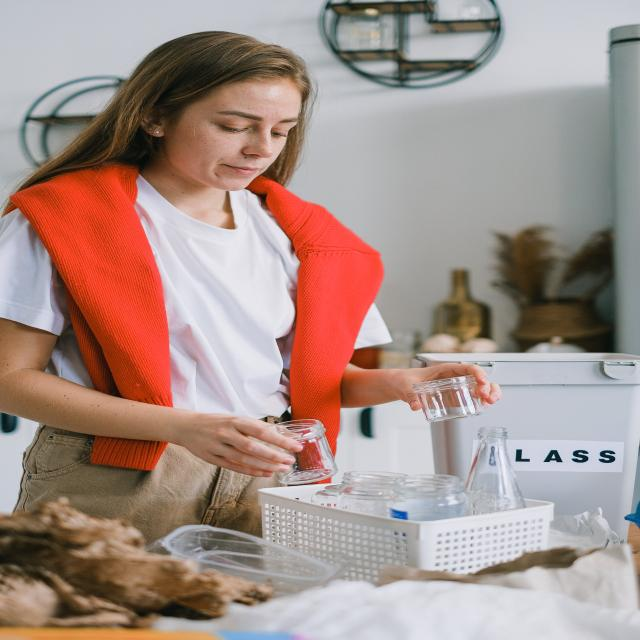glass: (357, 470, 497, 516)
